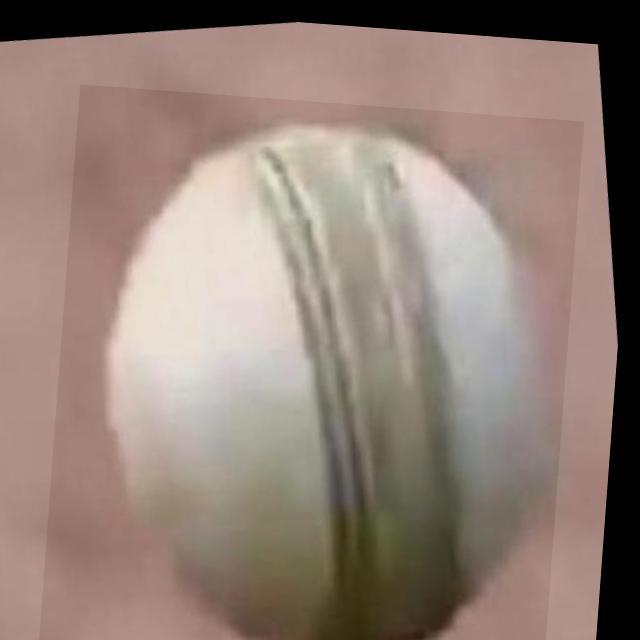-: (48, 83, 586, 640)
